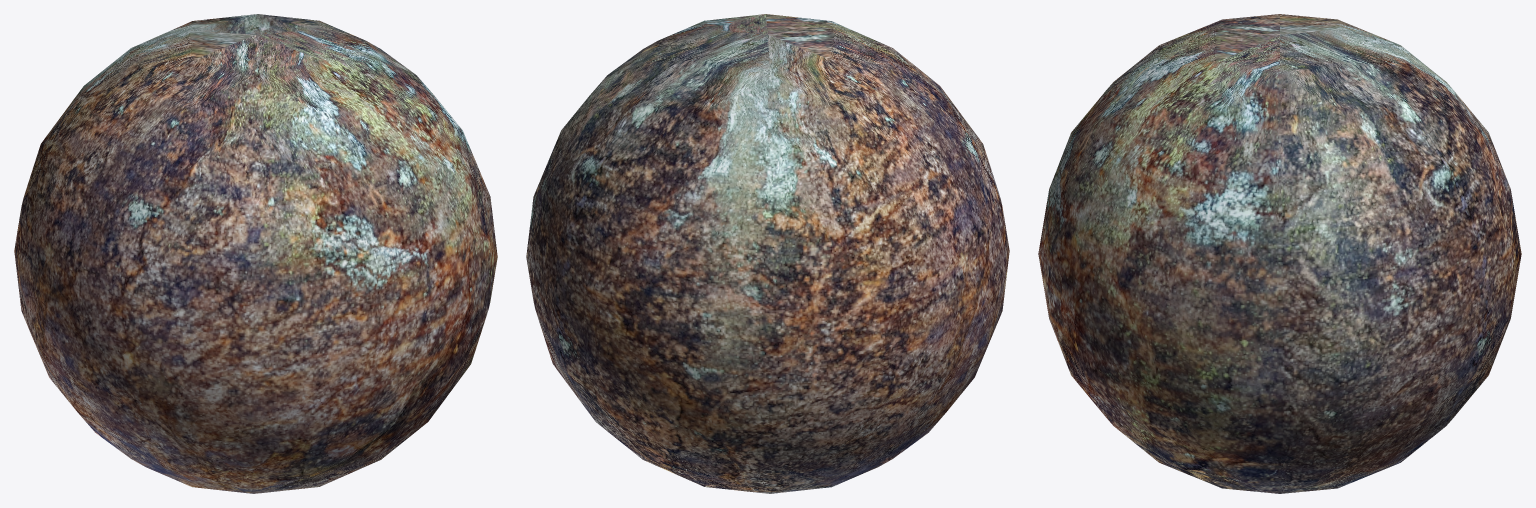
The model's file is moon_k_c.fbx.
3 renders of one model, left to right at view 1: azimuth 30°, elevation 25°; view 2: azimuth 150°, elevation 25°; view 3: azimuth 270°, elevation 25°, orthographic.
Visible parts, largest first — view 1: moon_k_c; view 2: moon_k_c; view 3: moon_k_c.
Part boxes in pixels (left/top/right/bottom): moon_k_c: left=14, top=14, right=497, bottom=493; moon_k_c: left=526, top=14, right=1009, bottom=493; moon_k_c: left=1038, top=14, right=1521, bottom=493.
Size of the model in its own units: 80 by 80 by 80.
Materials: 1 (1 with a texture image).
